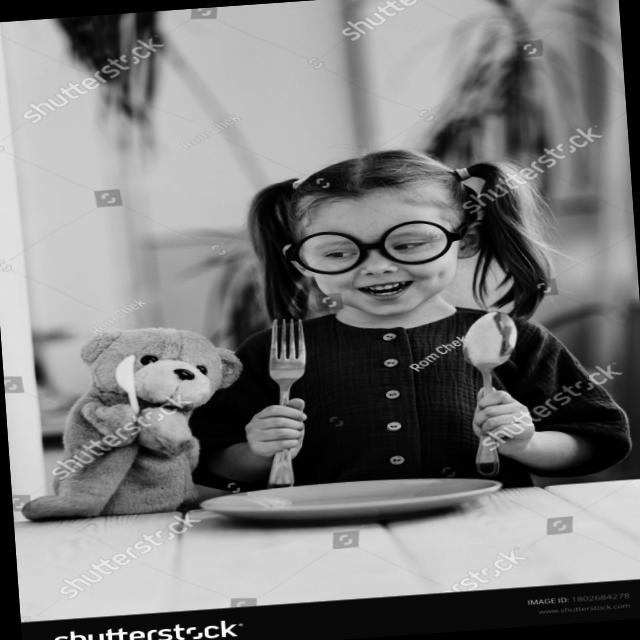fork: (250, 313, 326, 487)
